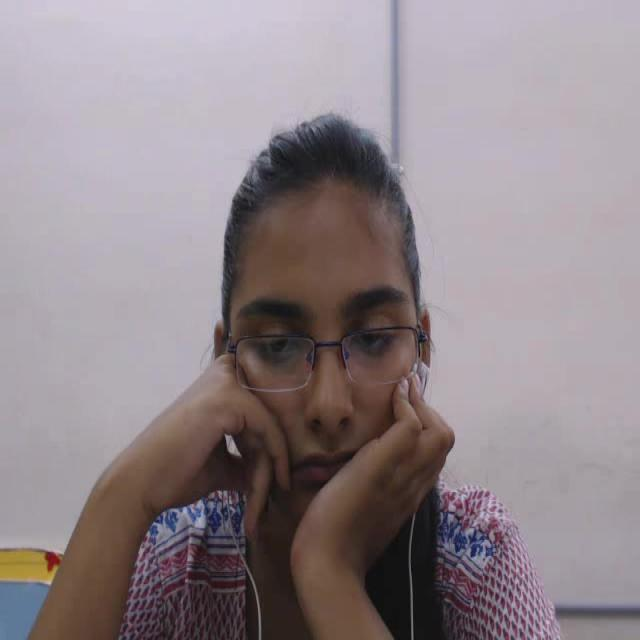Bored: (164, 99, 465, 572)
